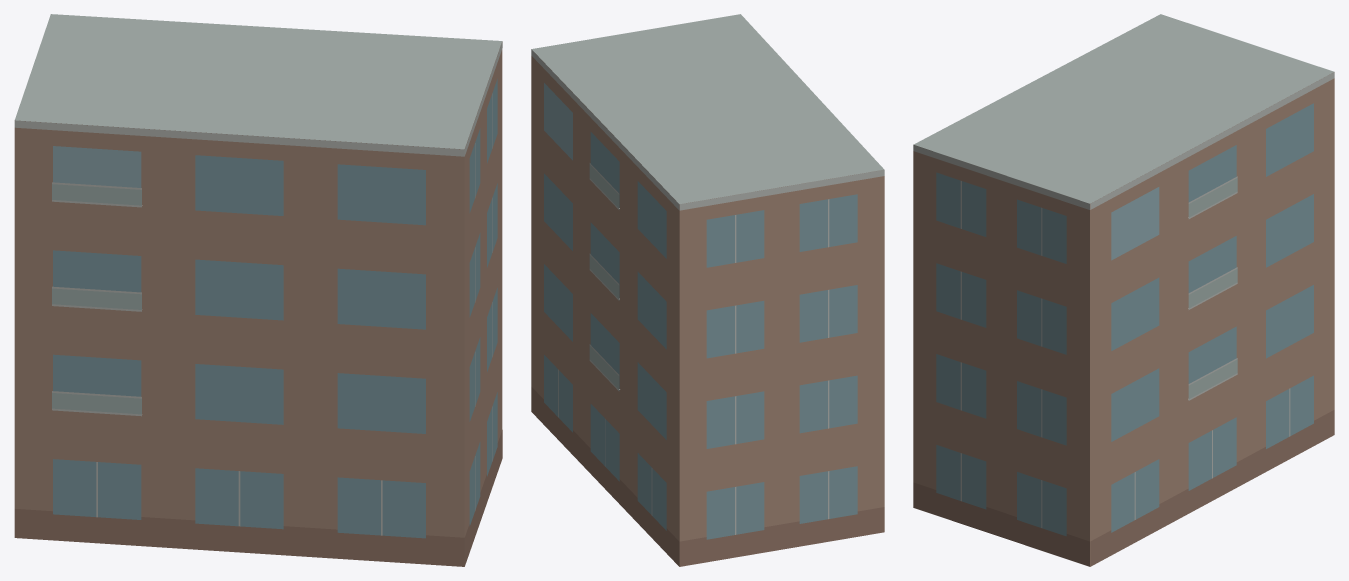
Rendered from survey-upis-32585474.glb.
3 views of the same model, side by side, from view 1: azimuth 30°, elevation 25°; view 2: azimuth 150°, elevation 25°; view 3: azimuth 270°, elevation 25° (orthographic). The views are drawn at different scales.
Visible parts, largest first — view 1: survey-upis-32585474.tmp; view 2: survey-upis-32585474.tmp; view 3: survey-upis-32585474.tmp.
Boxes of the visible parts, x1=… form: survey-upis-32585474.tmp: x1=14, y1=14, x2=502, y2=566; survey-upis-32585474.tmp: x1=531, y1=14, x2=884, y2=566; survey-upis-32585474.tmp: x1=913, y1=14, x2=1334, y2=566.
Bounding box in the file's own units: 15.59 × 13.9 × 14.62.
